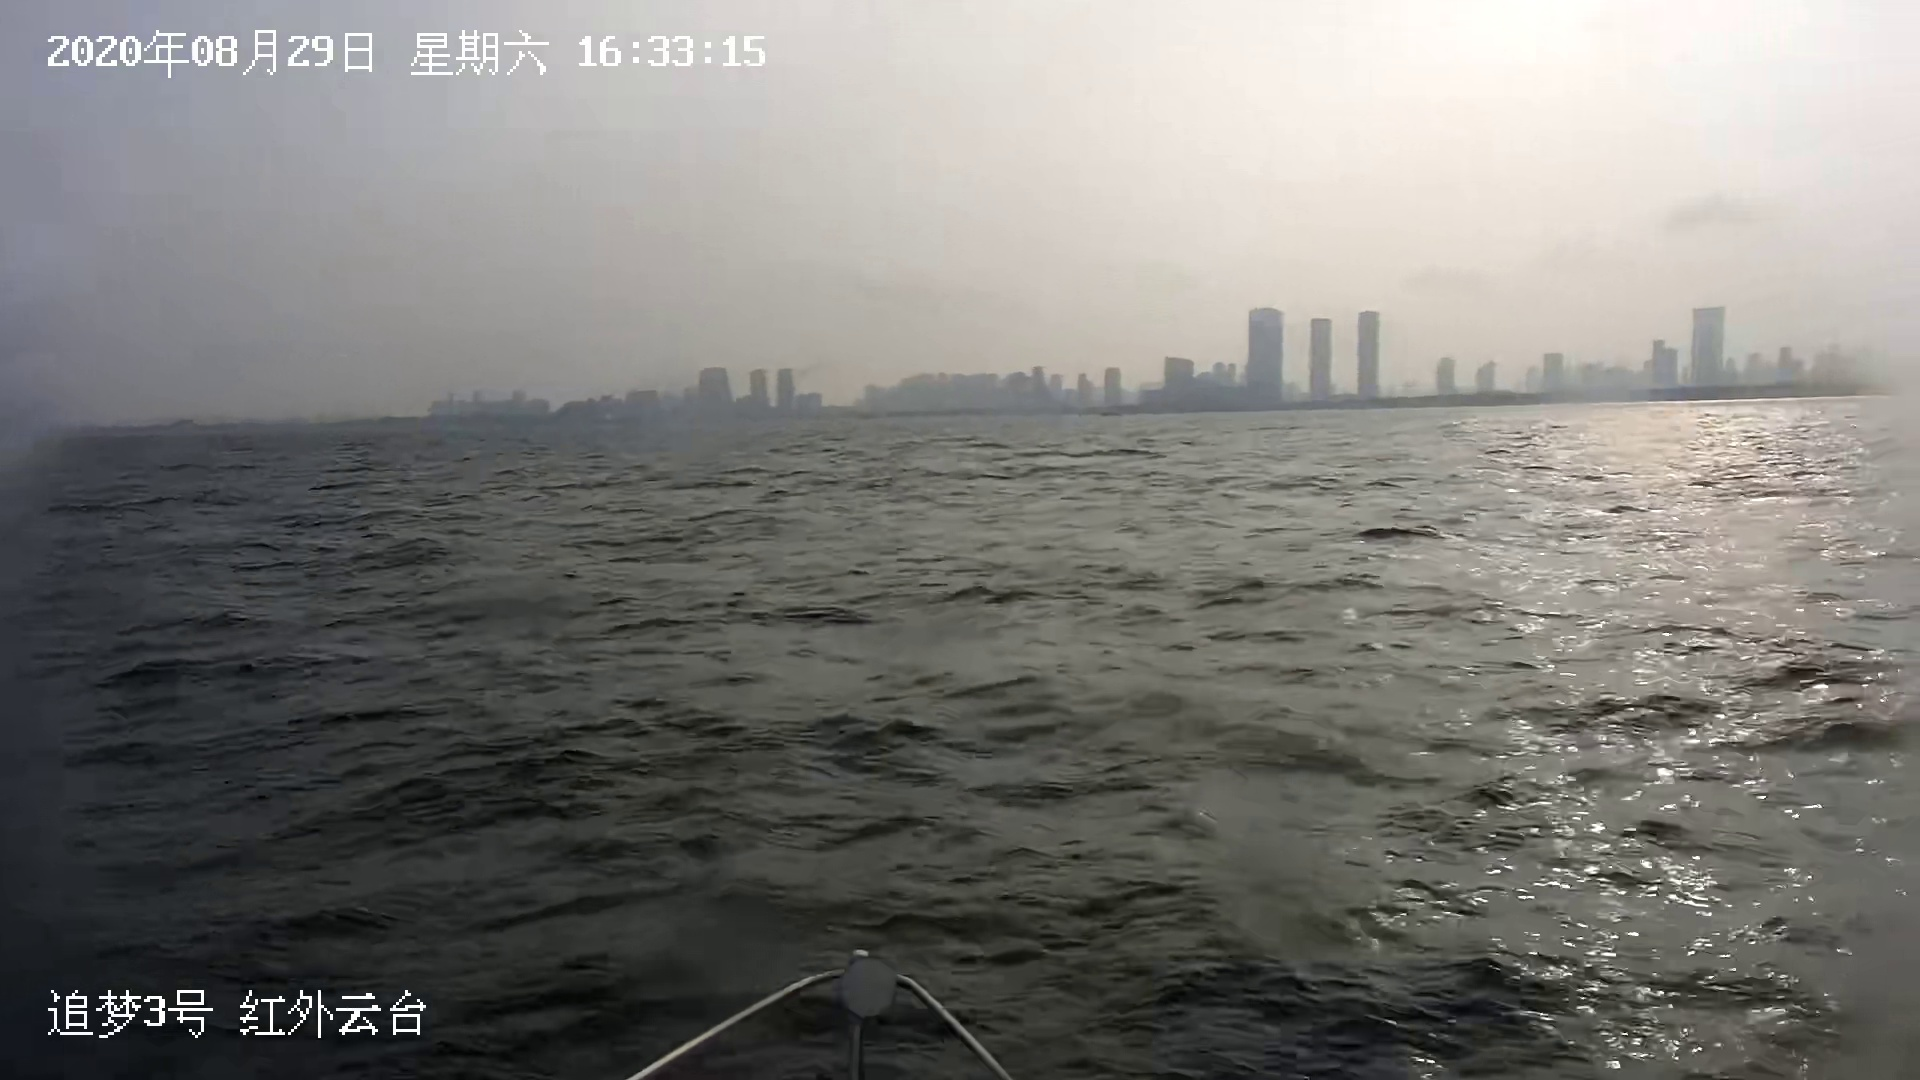coast: (40, 305, 1920, 468)
